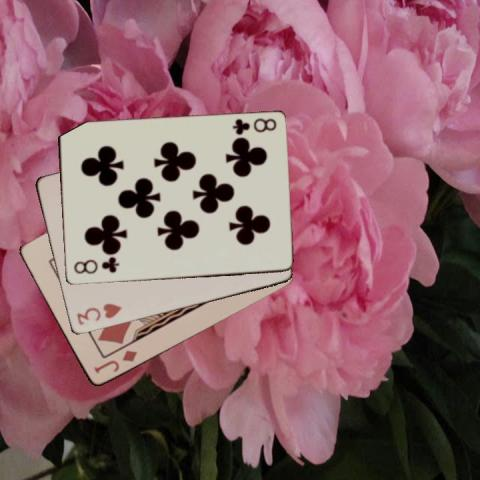3h: (73, 301, 123, 327)
8c: (229, 115, 278, 137), (71, 256, 120, 276)
Jd: (90, 348, 139, 376)
